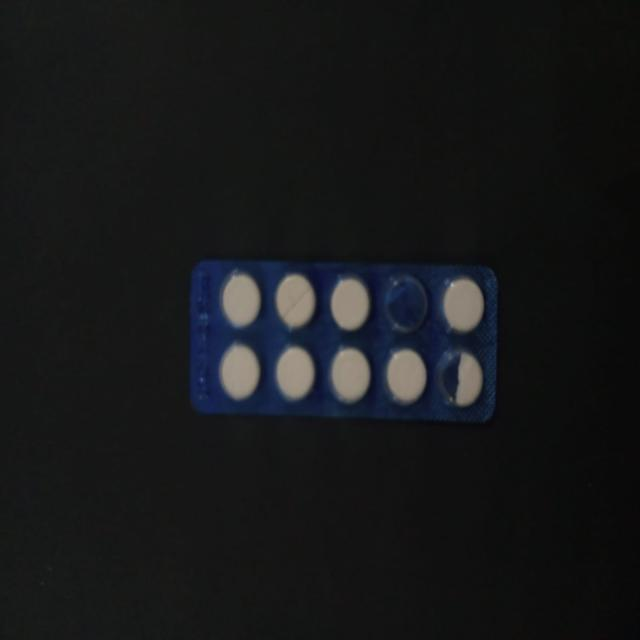defect: (432, 343, 488, 412), (382, 270, 432, 336), (271, 270, 320, 335)
